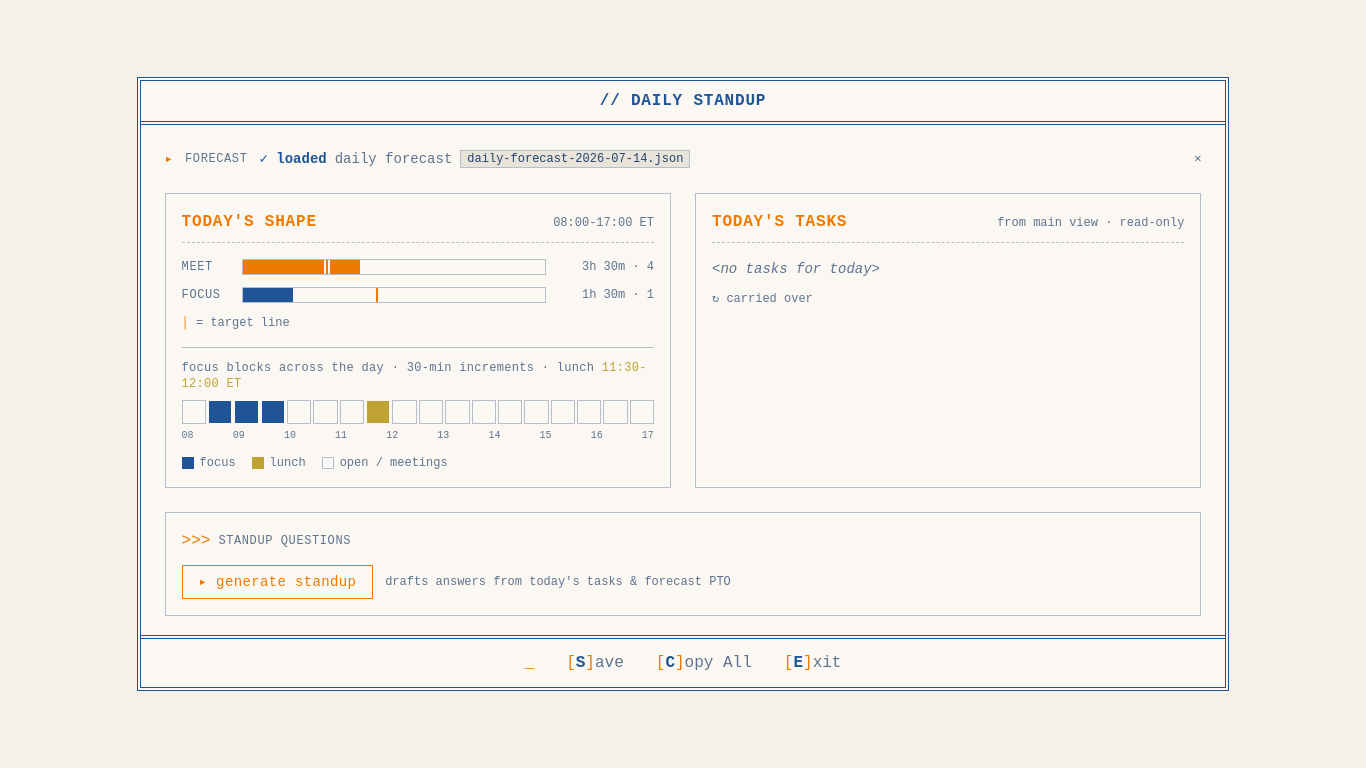
Scenario: StandupPlanningModal › StandupPlanningModal_UnloadsForecast_WhenUnloadClicked
The image size is (1366, 768).
Click the button with test id "forecast-unload": (1198, 159) [1194,151,1201,167]
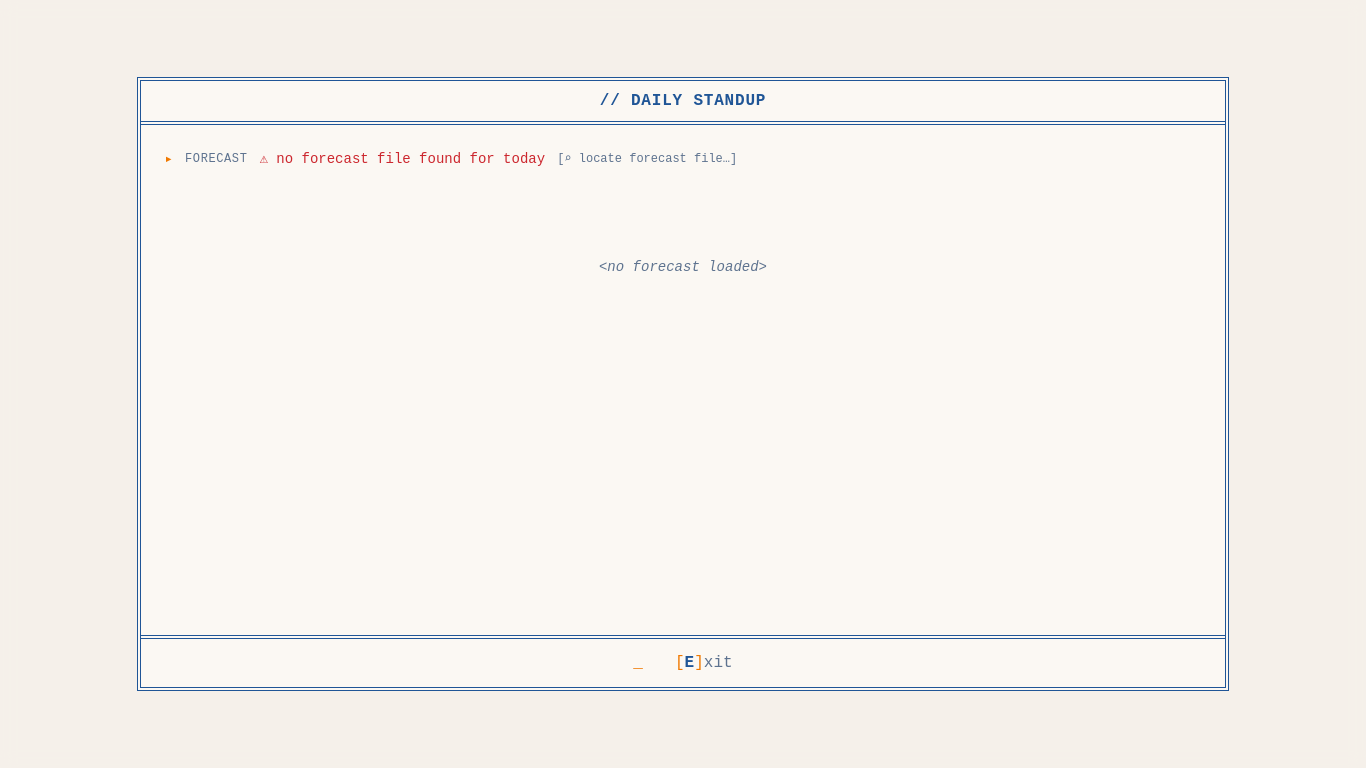
Result: the element with test id "shape-panel" is gone
Result: the text "<no forecast loaded>" is shown at [599,257,767,277]
